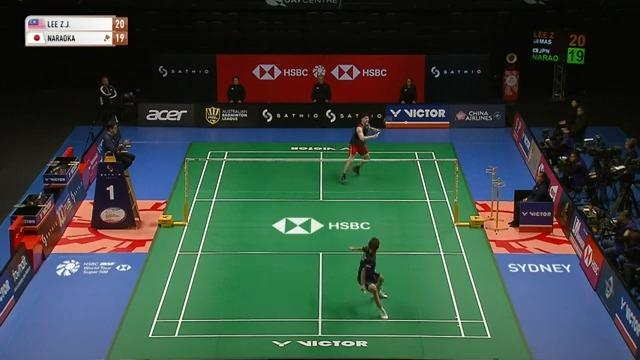Shuttlecock: (401, 117, 412, 129)
